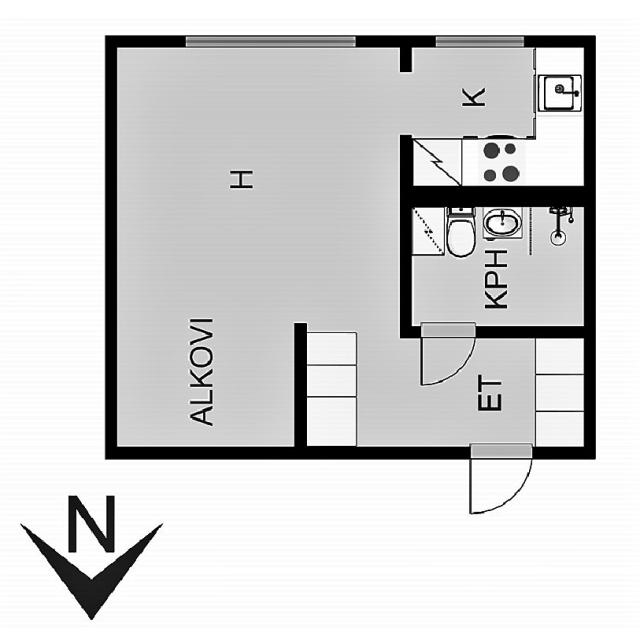door: (102, 38, 302, 446), (296, 329, 594, 461), (397, 194, 593, 330), (403, 44, 587, 188)
window: (174, 27, 368, 59), (425, 26, 531, 52)
zone: (459, 437, 534, 529), (411, 316, 482, 395)
